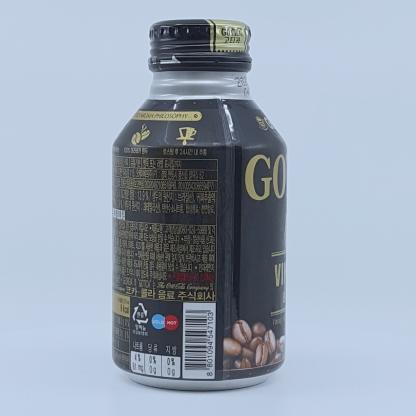---------------270ML: (112, 19, 287, 391)
